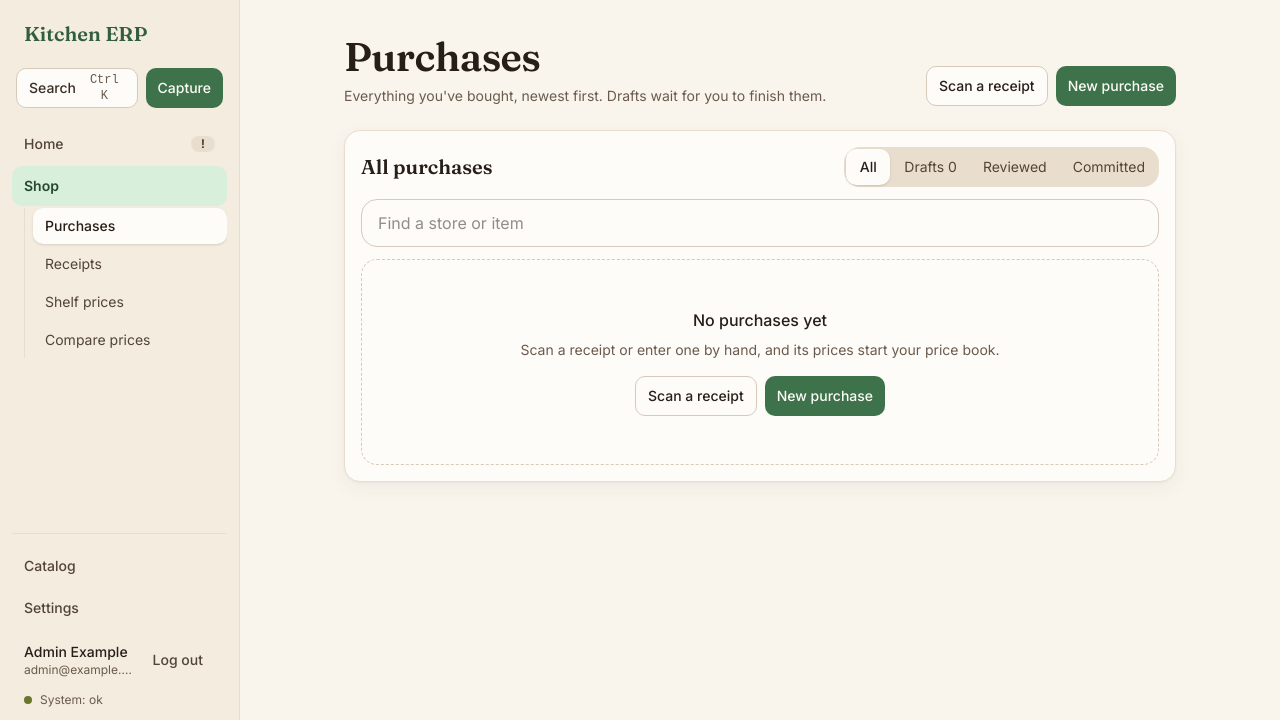
Test: app shell › logs out and returns to /login
Check: the text "No purchases yet" is shown, box left=693, top=310, right=827, bottom=330
Click the button "Log out". click: click(178, 660)
box: left=141, top=640, right=215, bottom=680
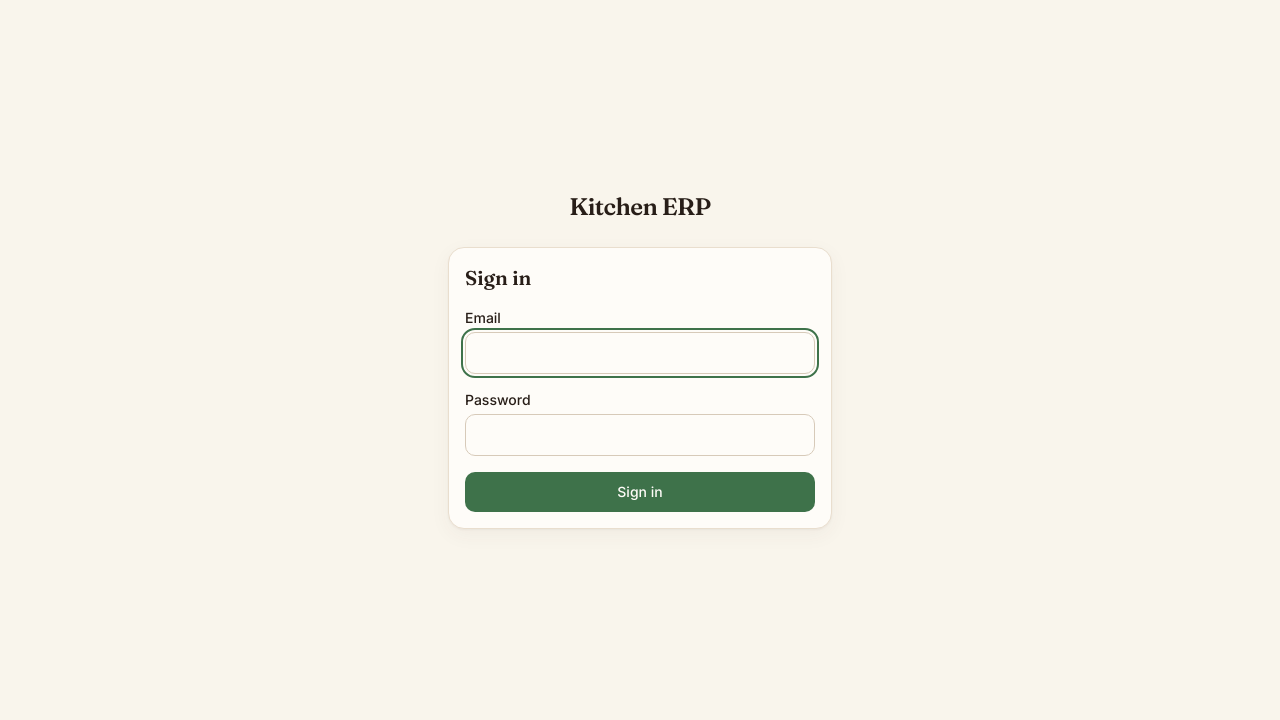
Check: the heading "Sign in" is shown, box left=465, top=265, right=532, bottom=290
